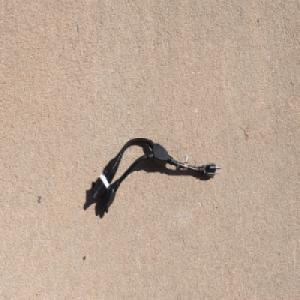Wire: (89, 136, 221, 213)
